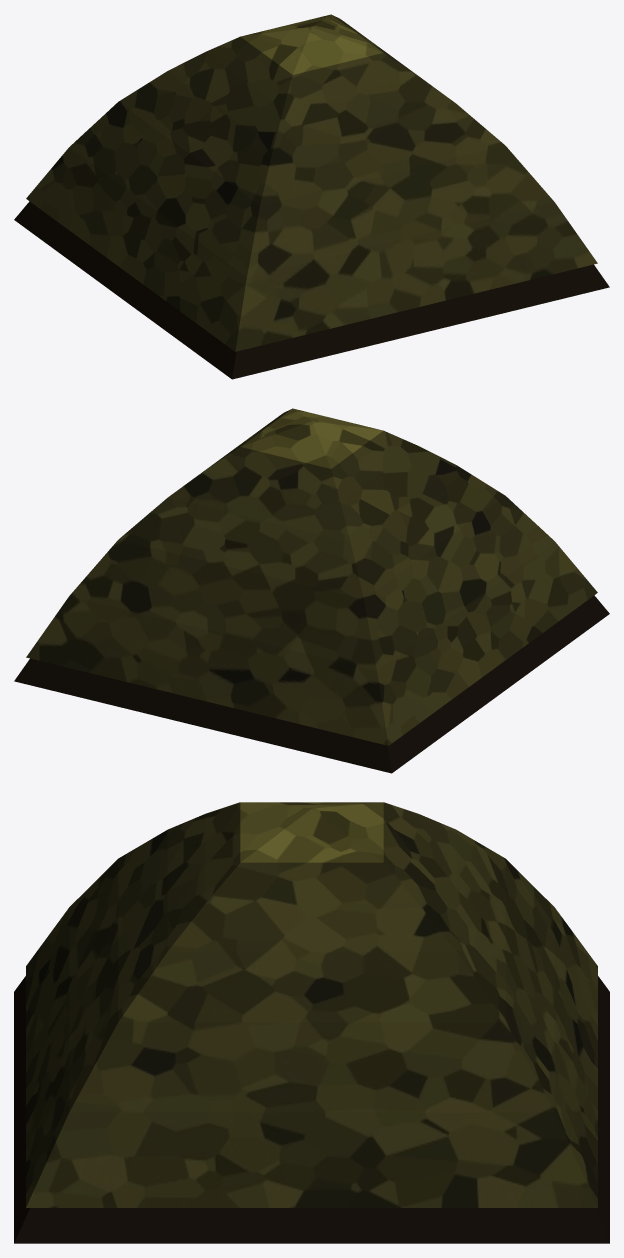
The model's file is Tent.fbx.
3 renders of one model, top to bottom at view 1: azimuth 30°, elevation 25°; view 2: azimuth 150°, elevation 25°; view 3: azimuth 270°, elevation 25°, orthographic. The views are drawn at different scales.
Parts seen in each view (by area): view 1: Tent; view 2: Tent; view 3: Tent.
Boxes of the visible parts, x1,y1,x2,y2 form: Tent: [14, 14, 609, 379]; Tent: [14, 408, 609, 773]; Tent: [14, 802, 609, 1243].
Size of the model in its own units: 90.62 by 51.89 by 90.62.
